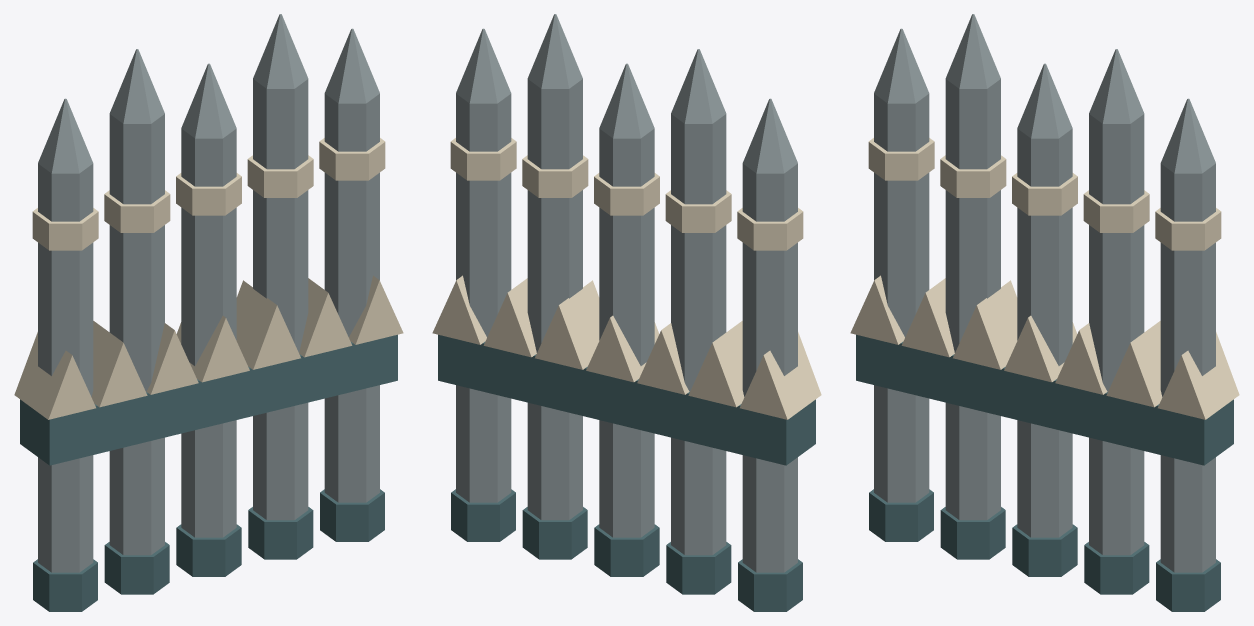
File: marker_ammo_sawtooth.glb
The picture shows the model from 3 angles, left to right: view 1: azimuth 30°, elevation 25°; view 2: azimuth 150°, elevation 25°; view 3: azimuth 330°, elevation 25°; orthographic projection.
Visible parts, largest first — view 1: marker_ammo_sawtooth_steel, marker_ammo_sawtooth_iron, marker_ammo_sawtooth_bone; view 2: marker_ammo_sawtooth_steel, marker_ammo_sawtooth_iron, marker_ammo_sawtooth_bone; view 3: marker_ammo_sawtooth_steel, marker_ammo_sawtooth_iron, marker_ammo_sawtooth_bone.
Boxes of the visible parts, x1,y1,x2,y2 form: marker_ammo_sawtooth_steel: [38, 14, 379, 572]; marker_ammo_sawtooth_iron: [20, 334, 397, 611]; marker_ammo_sawtooth_bone: [14, 138, 403, 419]; marker_ammo_sawtooth_steel: [456, 14, 797, 572]; marker_ammo_sawtooth_iron: [438, 334, 815, 611]; marker_ammo_sawtooth_bone: [432, 138, 821, 419]; marker_ammo_sawtooth_steel: [874, 14, 1215, 572]; marker_ammo_sawtooth_iron: [856, 334, 1233, 611]; marker_ammo_sawtooth_bone: [850, 138, 1239, 419].
Bounding box in the file's own units: 0.694 × 0.995 × 0.115.
